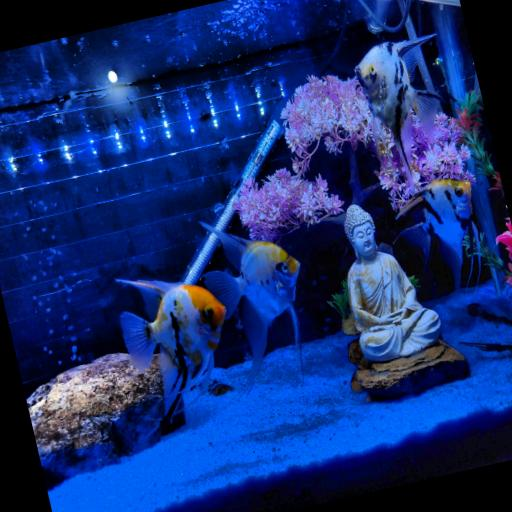Fish: (202, 223, 301, 390), (117, 280, 227, 421), (355, 35, 442, 194), (398, 179, 479, 291)
